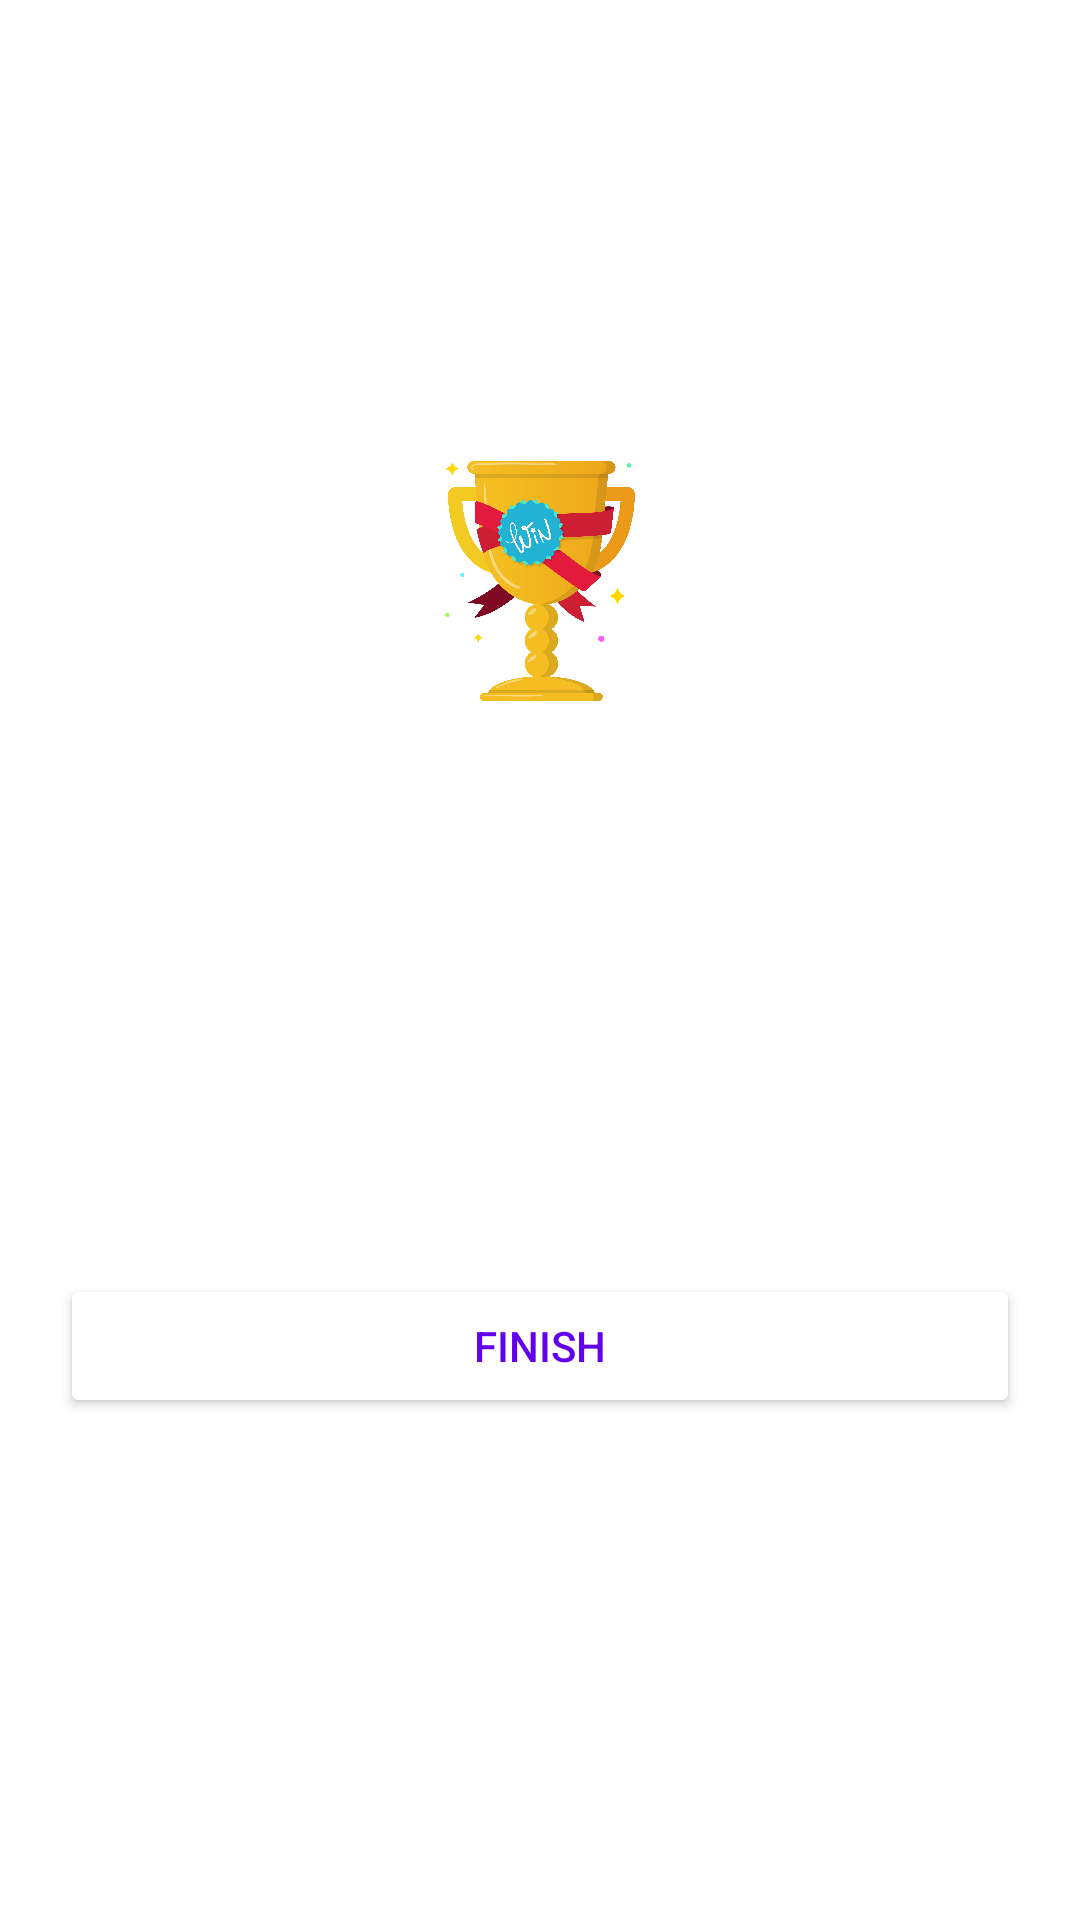

Screen size 1080w x 1920h. Icon name, then its center in pixels as point (x, y):
trophy: point (540, 581)
